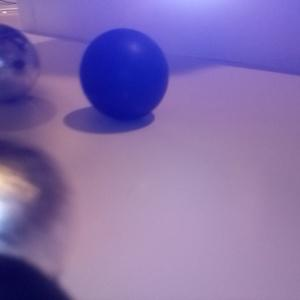alive_ball: (1, 137, 73, 295), (1, 24, 39, 101)
dead_ball: (79, 28, 170, 122), (1, 253, 80, 300)
